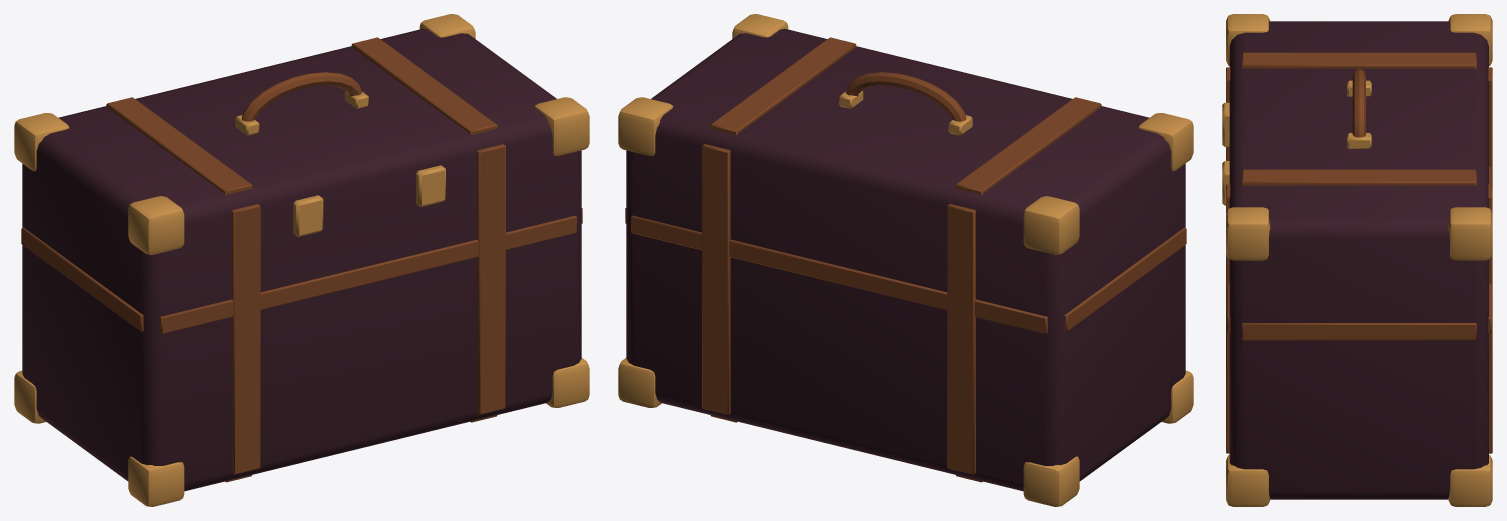
The model's file is Suitcase.glb.
3 renders of one model, left to right at view 1: azimuth 30°, elevation 25°; view 2: azimuth 150°, elevation 25°; view 3: azimuth 270°, elevation 25°, orthographic. The views are drawn at different scales.
Parts seen in each view (by area): view 1: Suitcase_Body, Suitcase_Straps, Suitcase_Brass; view 2: Suitcase_Body, Suitcase_Straps, Suitcase_Brass; view 3: Suitcase_Body, Suitcase_Straps, Suitcase_Brass.
Boxes of the visible parts, x1,y1,x2,y2 form: Suitcase_Body: (22,28,581,491); Suitcase_Straps: (21,37,582,482); Suitcase_Brass: (14,14,589,506); Suitcase_Body: (626,28,1185,491); Suitcase_Straps: (625,37,1186,482); Suitcase_Brass: (618,14,1193,506); Suitcase_Body: (1229,21,1488,499); Suitcase_Straps: (1226,52,1492,453); Suitcase_Brass: (1222,14,1492,506).
Size of the model in its own units: 0.812 by 0.5785 by 0.438.
